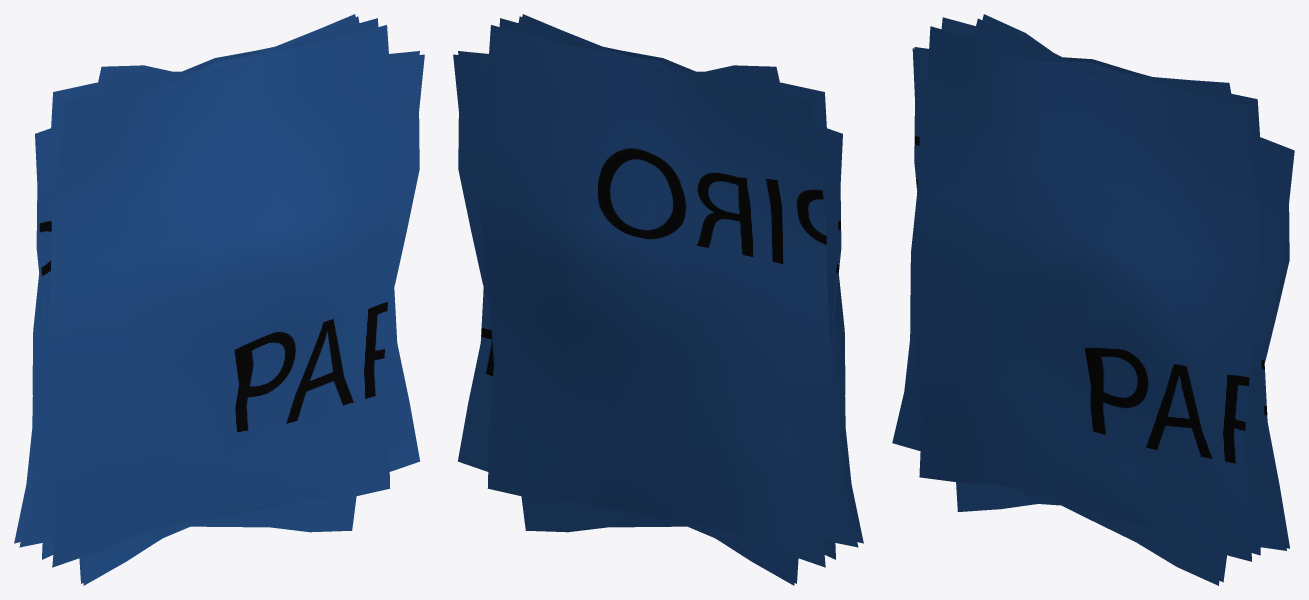
File: Papyrus_Mesh.fbx
The picture shows the model from 3 angles, left to right: view 1: azimuth 30°, elevation 25°; view 2: azimuth 150°, elevation 25°; view 3: azimuth 330°, elevation 25°; orthographic projection. The views are drawn at different scales.
Visible parts, largest first — view 1: polySurface6; view 2: polySurface6; view 3: polySurface6.
Boxes of the visible parts, box(x1,y1,x2,y2) form: polySurface6: box(14, 14, 424, 585); polySurface6: box(453, 14, 863, 585); polySurface6: box(892, 14, 1294, 585).
Bounding box in the file's own units: 10.13 × 12.41 × 1.4.
